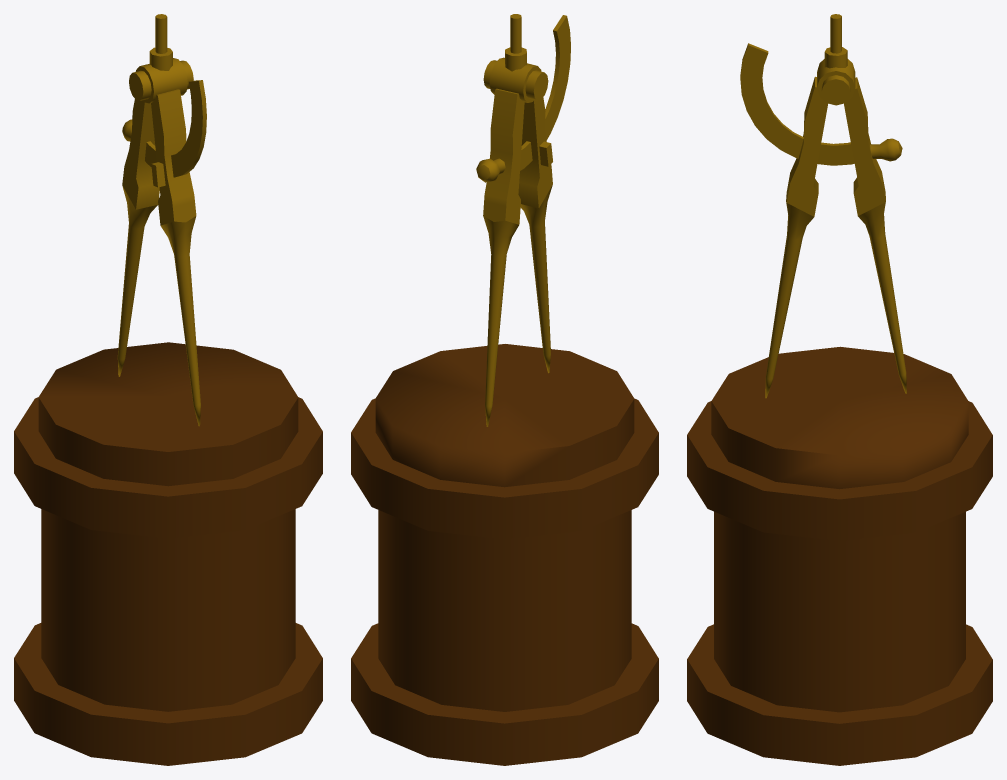
File: Weight_Work_final_Vanessa_01.fbx
3 renders of one model, left to right at view 1: azimuth 30°, elevation 25°; view 2: azimuth 150°, elevation 25°; view 3: azimuth 270°, elevation 25°, orthographic.
Visible parts, largest first — view 1: mesh_Work_Base, group11_pCylinder29, group11_pCylinder30, pTorus5, pCylinder27, pCylinder43, pCylinder32; view 2: mesh_Work_Base, group11_pCylinder30, group11_pCylinder29, pTorus5, pCylinder27, pCylinder43, pCylinder32, pCylinder30; view 3: mesh_Work_Base, group11_pCylinder29, group11_pCylinder30, pTorus5, pCylinder43, pCylinder27, pCylinder32, pCylinder30.
Boxes of the visible parts, left/top/right/bottom form: mesh_Work_Base: left=14, top=342, right=322, bottom=765; group11_pCylinder29: left=151, top=89, right=200, bottom=426; group11_pCylinder30: left=117, top=99, right=159, bottom=376; pTorus5: left=145, top=80, right=206, bottom=177; pCylinder27: left=135, top=58, right=187, bottom=103; pCylinder43: left=149, top=14, right=172, bottom=70; pCylinder32: left=129, top=60, right=193, bottom=100; mesh_Work_Base: left=351, top=344, right=658, bottom=765; group11_pCylinder30: left=483, top=88, right=524, bottom=426; group11_pCylinder29: left=518, top=97, right=552, bottom=373; pTorus5: left=520, top=15, right=570, bottom=170; pCylinder27: left=489, top=57, right=541, bottom=102; pCylinder43: left=505, top=14, right=526, bottom=71; pCylinder32: left=483, top=60, right=548, bottom=100; pCylinder30: left=476, top=158, right=505, bottom=182; mesh_Work_Base: left=687, top=346, right=992, bottom=765; group11_pCylinder29: left=765, top=76, right=827, bottom=398; group11_pCylinder30: left=844, top=77, right=906, bottom=393; pTorus5: left=740, top=43, right=854, bottom=165; pCylinder43: left=824, top=14, right=847, bottom=68; pCylinder27: left=817, top=59, right=855, bottom=105; pCylinder32: left=821, top=75, right=850, bottom=105; pCylinder30: left=870, top=138, right=902, bottom=161.
Size of the model in its own units: 6.85 by 16.83 by 6.85.
